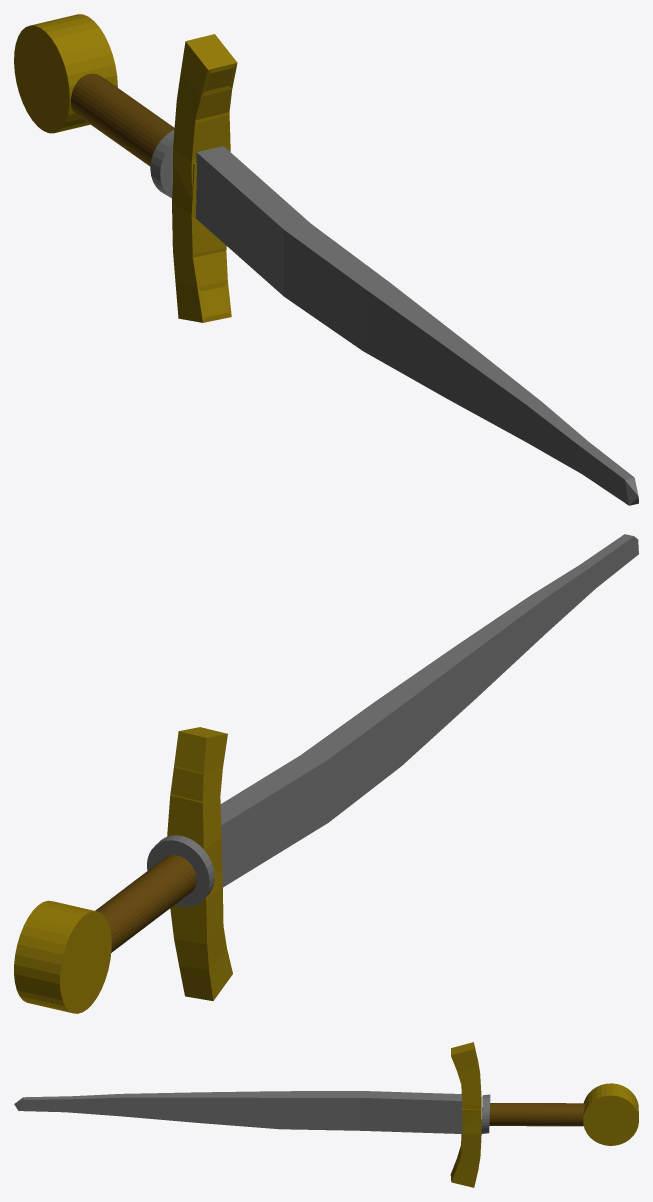
The model's file is Sword.fbx.
3 views of the same model, one above another, from view 1: azimuth 30°, elevation 25°; view 2: azimuth 150°, elevation 25°; view 3: azimuth 270°, elevation 25° (orthographic). The views are drawn at different scales.
Parts seen in each view (by area): view 1: Cube.002, Cylinder, Cube, Cube.001, Cylinder.001, Cylinder.002; view 2: Cube.002, Cylinder, Cube, Cube.001, Cylinder.001, Cylinder.002; view 3: Cube.002, Cylinder, Cylinder.001, Cube, Cube.001, Cylinder.002.
Part boxes in pixels (<box>): Cube.002: <box>195,146,638,505</box>; Cylinder: <box>14,14,117,133</box>; Cube: <box>173,34,237,198</box>; Cube.001: <box>172,163,231,322</box>; Cylinder.001: <box>70,73,174,166</box>; Cylinder.002: <box>150,130,174,198</box>; Cube.002: <box>220,534,638,887</box>; Cylinder: <box>14,900,111,1013</box>; Cube: <box>167,727,227,872</box>; Cube.001: <box>170,863,232,1000</box>; Cylinder.001: <box>95,855,196,952</box>; Cylinder.002: <box>147,835,214,907</box>; Cube.002: <box>14,1091,462,1133</box>; Cylinder: <box>583,1083,638,1145</box>; Cylinder.001: <box>489,1103,585,1126</box>; Cube: <box>451,1042,481,1132</box>; Cube.001: <box>450,1107,481,1187</box>; Cylinder.002: <box>481,1094,490,1133</box>.
Size of the model in its own units: 37.89 by 147 by 591.
